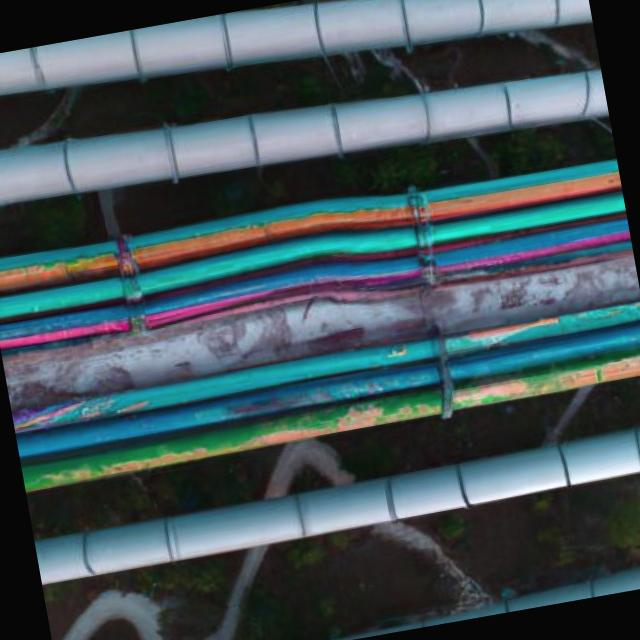gas: (0, 34, 610, 232), (31, 412, 640, 586), (0, 147, 622, 303), (9, 291, 640, 440), (0, 209, 632, 356), (14, 318, 640, 465), (19, 345, 640, 492), (0, 186, 627, 329), (0, 0, 593, 137), (234, 551, 640, 640)
